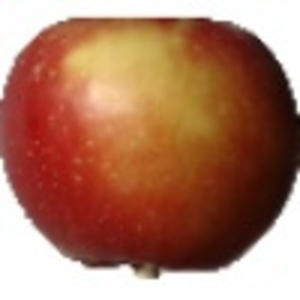maçã braeburn: (1, 13, 300, 271)
